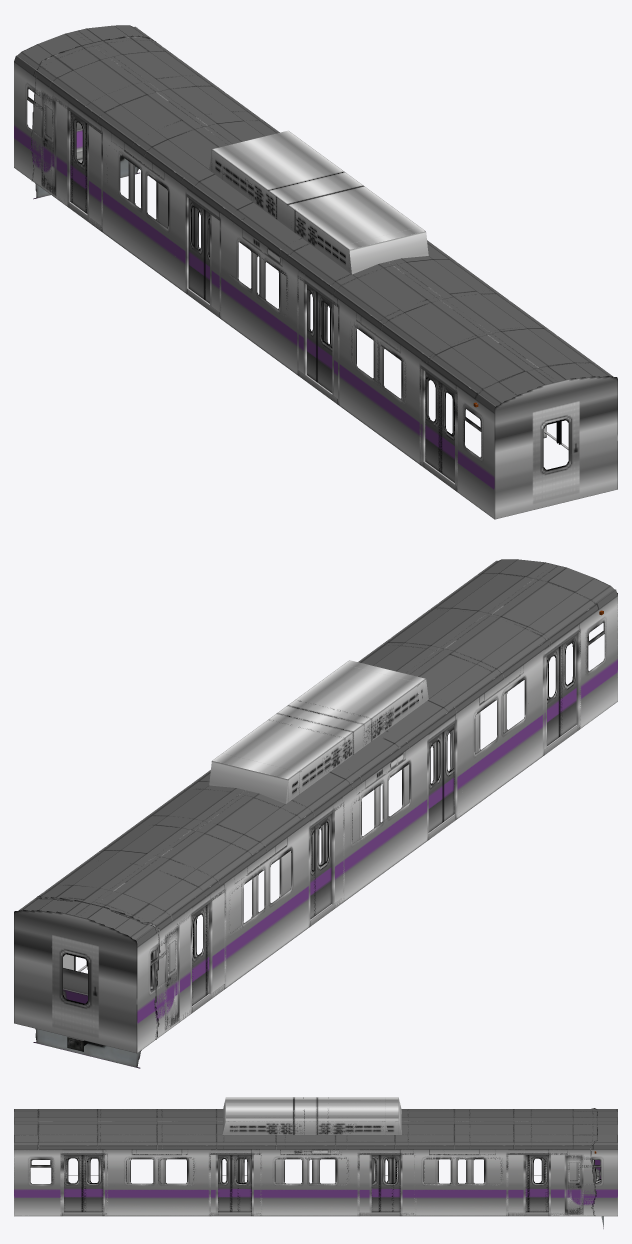
The picture shows the model from 3 angles, top to bottom: view 1: azimuth 30°, elevation 25°; view 2: azimuth 150°, elevation 25°; view 3: azimuth 270°, elevation 25°; orthographic projection. The views are drawn at different scales.
Visible parts, largest first — view 1: cab-shell-0, trailer-shell-5, cab-left-4, trailer-left-7, cab-left-2, trailer-left-9; view 2: trailer-shell-5, cab-shell-0, cab-left-4, trailer-left-7, cab-left-2, trailer-left-9; view 3: cab-shell-0, trailer-shell-5, cab-right-1, trailer-right-8, cab-right-3, trailer-right-6.
Part boxes in pixels (x1,y1,x2,y2): cab-shell-0: (29,35,617,519); trailer-shell-5: (14,25,610,517); cab-left-4: (70,112,441,472); trailer-left-7: (72,114,453,475); cab-left-2: (86,124,454,482); trailer-left-9: (70,112,439,471); trailer-shell-5: (14,559,617,1053); cab-shell-0: (33,559,617,1068); cab-left-4: (192,655,561,1005); trailer-left-7: (193,642,574,1003); cab-left-2: (206,634,576,994); trailer-left-9: (312,647,559,916); cab-shell-0: (14,1097,603,1228); trailer-shell-5: (14,1097,617,1216); cab-right-1: (82,1155,548,1212); trailer-right-8: (64,1155,546,1212); cab-right-3: (64,1155,528,1212); trailer-right-6: (85,1155,548,1212).
Size of the model in its own units: 3.02 by 3.62 by 19.
Materials: 1 (1 with a texture image).
